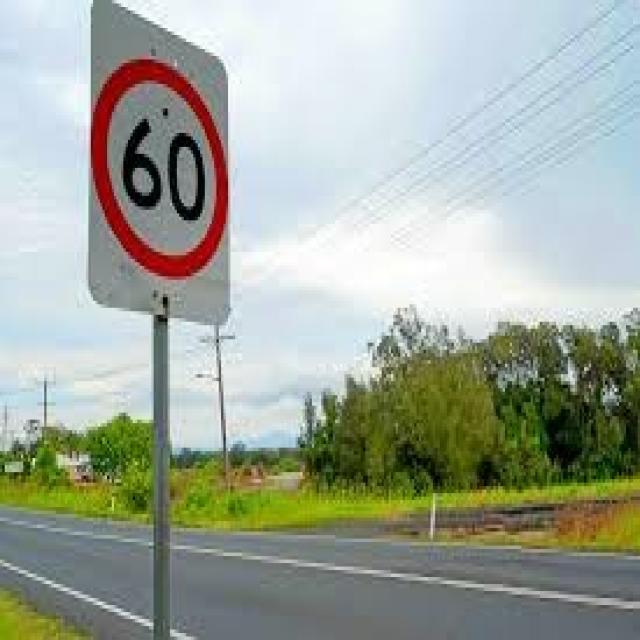speed_limit_60: (93, 41, 229, 282)
